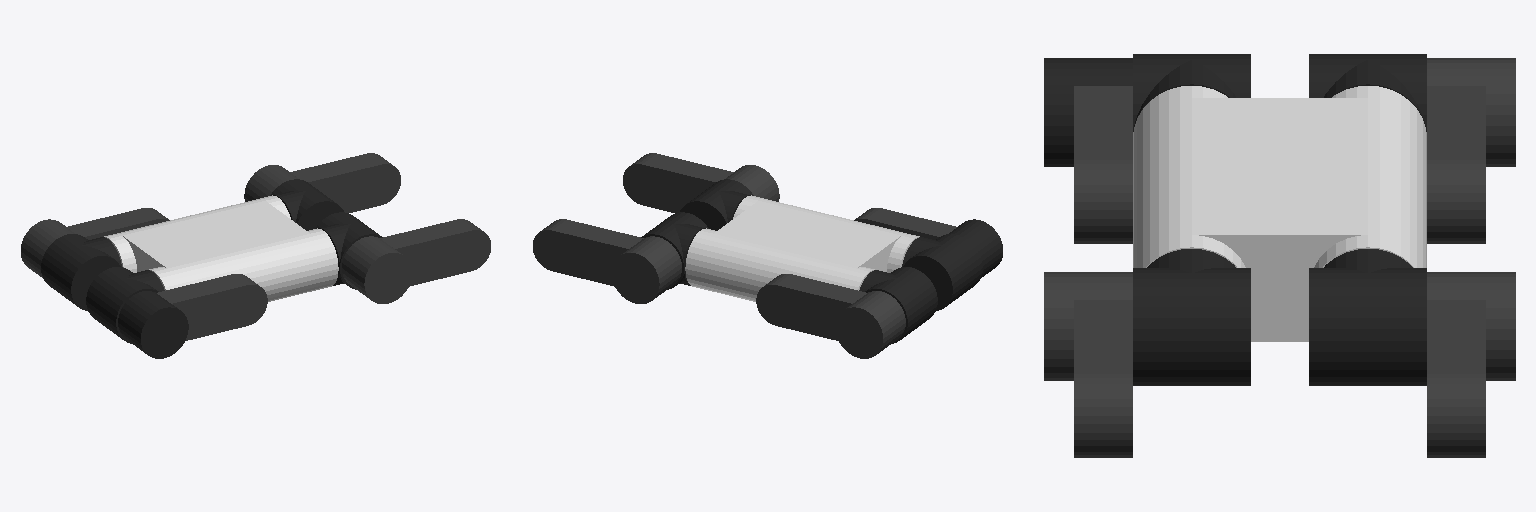
--- Render facts (derived) ---
Views: 3 orthographic renders of the robot side by side, from view 1: azimuth 30°, elevation 25°; view 2: azimuth 150°, elevation 25°; view 3: azimuth 270°, elevation 25°.
Robot: felin — 17 links, 16 joints (12 revolute, 4 fixed); root link body-base; default pose: every joint at zero.
Links seen in each view (by area): view 1: body-base, RR-femur, FR-femur, FL-femur, RL-pod, RL-femur, RR-pod, FL-pod, FR-pod; view 2: body-base, RL-femur, FL-femur, FR-femur, RR-pod, RR-femur, RL-pod, FR-pod, FL-pod; view 3: body-base, FR-pod, FL-pod, FR-femur, RR-femur, FL-femur, RL-femur, RR-pod, RL-pod.
Link boxes in pixels (x1,y1,x2,y2): body-base: (104, 195, 338, 301); RR-femur: (118, 274, 267, 358); FR-femur: (342, 219, 490, 303); FL-femur: (244, 153, 400, 212); RL-pod: (41, 234, 121, 310); RL-femur: (21, 208, 169, 277); RR-pod: (86, 267, 164, 343); FL-pod: (270, 179, 343, 230); FR-pod: (315, 212, 382, 289); body-base: (685, 195, 919, 301); RL-femur: (756, 274, 905, 358); FL-femur: (533, 219, 681, 303); FR-femur: (623, 153, 779, 212); RR-pod: (902, 234, 982, 310); RR-femur: (854, 208, 1002, 277); RL-pod: (859, 267, 937, 343); FR-pod: (680, 179, 753, 230); FL-pod: (641, 212, 708, 289); body-base: (1133, 86, 1426, 341); FR-pod: (1133, 249, 1250, 385); FL-pod: (1309, 249, 1426, 385); FR-femur: (1044, 272, 1132, 457); RR-femur: (1044, 58, 1132, 243); FL-femur: (1427, 272, 1515, 457); RL-femur: (1427, 58, 1515, 243); RR-pod: (1133, 54, 1250, 131); RL-pod: (1309, 54, 1426, 131).
Size in the robot's own frame: 0.554 by 0.32 by 0.08 metres.
Geometry: primitives only (box / cylinder / sphere), no mesh files.

The robot description file, URDF, robot "felin":
<?xml version="1.0"?>

<!-- 
    ############################################
    ######              MEMO              ######
    ############################################
    x = front
    y = left
    z = up
    
    Origin is placed at geometry center of the body 

    https://mymodelrobot.appspot.com/[number redacted]
-->

<robot name="felin">


    <material name="white">
        <color rgba="0.9 0.9 0.9 1.0"/>
    </material>
    <material name="black">
        <color rgba="0.2 0.2 0.2 1.0"/>
    </material>
    <material name="dark_grey">
        <color rgba="0.3 0.3 0.3 1.0"/>
    </material>    
    <material name="grey">
        <color rgba="0.6 0.6 0.6 1.0"/>
    </material>

    <!-- 
    ############################################
    ######              BODY              ######
    ############################################
    -->
    <!--
    ********************************************
    ******              PARTS             ******
    ********************************************
    -->
    <link name="body-base">
        <!--body-base-case-->
        <visual>
            <geometry>
                <box size="0.220 0.120 0.080"/>
            </geometry>
            <origin rpy="0 0 0" xyz="0 0 0"/>
            <material name="white"/>          
        </visual>
        <collision>
            <geometry>
                <box size="0.220 0.120 0.080"/>
            </geometry>
            <origin rpy="0 0 0" xyz="0 0 0"/>
        </collision>
        
        <!--body-base-right-cylinder-->
        <visual>
            <geometry>
                <cylinder length="0.260" radius="0.040"/> 
            </geometry>
            <origin rpy="0 1.57079 0" xyz="0.0 -0.06 0"/>
            <material name="white"/>                          
        </visual>
        <collision>
            <geometry>
                <cylinder length="0.260" radius="0.040"/> 
            </geometry>
            <origin rpy="0 1.57079 0" xyz="0.0 -0.06 0"/>
        </collision>

        <!--body-base-left-cylinder-->
        <visual>
            <geometry>
                <cylinder length="0.260" radius="0.040"/> 
            </geometry>
            <origin rpy="0 1.57079 0" xyz="0.0 0.06 0"/>
            <material name="white"/>                          
        </visual>
        <collision>
            <geometry>
                <cylinder length="0.260" radius="0.040"/> 
            </geometry>
            <origin rpy="0 1.57079 0" xyz="0.0 0.06 0"/>
        </collision>

        <inertial>
            <origin rpy="0 0 0" xyz="0.050 0 0"/>
            <mass value="3"/> <!--3-->
            <inertia ixx="0.02" ixy="0.0" ixz="0.0" iyy="0.03" iyz="0.0" izz="0.03"/>
        </inertial>
    </link>
        
    <!-- 
    ############################################
    ######              LEG Front Right   ######
    ############################################
    -->
    <!--
    ********************************************
    ******              PARTS             ******
    ********************************************
    -->
    <link name="FR-pod">
        <visual>
            <geometry>
                <cylinder length="0.080" radius="0.040"/>
            </geometry>
            <origin rpy="1.57079 0 0" xyz="0 0 0"/>
            <material name="black"/>
        </visual>
        <visual>
            <geometry>
                <cylinder length="0.040" radius="0.040"/>
            </geometry>
            <origin rpy="0.0 0 0" xyz="0.0 0 0.02"/>
            <material name="black"/>                          
        </visual>
        <collision>
            <geometry>
                <cylinder length="0.080" radius="0.040"/>
            </geometry>
            <origin rpy="1.57079 0 0" xyz="0 0 0"/>
        </collision>
        <inertial>
            <mass value="0.5"/>
            <inertia ixx="0.0003" ixy="0.0" ixz="0.0" iyy="0.0008" iyz="0.0" izz="0.0008"/>
        </inertial>        
    </link>
    
    <link name="FR-femur">
        <visual>
            <geometry>
                <cylinder radius="0.037" length="0.060"/>
            </geometry>
            <origin rpy="0.0 0.0 0.0" xyz="0.0 0.0 -0.01"/>
            <material name="dark_grey"/>          
        </visual>
        <visual>
            <geometry>
                <box size="0.140 0.060 0.040"/>
            </geometry>
            <origin rpy="0 0 0" xyz="0.07 0 0"/>
            <material name="dark_grey"/>
        </visual>
        <visual>
            <geometry>
                <cylinder radius="0.03" length="0.040"/>
            </geometry>
            <origin rpy="0.0 0.0 0.0" xyz="0.14 0.0 0.0"/>
            <material name="dark_grey"/>
        </visual>

        <collision>
            <geometry>
                <cylinder radius="0.037" length="0.060"/>
            </geometry>
            <origin rpy="0.0 0.0 0.0" xyz="0.0 0.0 -0.01"/>
        </collision>
        <collision>
            <geometry>
                <box size="0.140 0.060 0.040"/>
            </geometry>
            <origin rpy="0 0 0" xyz="0.07 0 0"/>          
        </collision>
        <collision>
            <geometry>
                <cylinder radius="0.03" length="0.040"/>
            </geometry>
            <origin rpy="0.0 0.0 0.0" xyz="0.14 0.0 0.0"/>        
        </collision>

        <inertial>
          <mass value="0.05"/>
          <inertia ixx="0.0001" ixy="0.0" ixz="0.0" iyy="0.0001" iyz="0.0" izz="0.0001"/>
        </inertial>      
    </link>
    
    <link name="FR-tibia">
        <visual>
            <geometry>
                <box size="0.150 0.020 0.025"/>
            </geometry>
            <origin rpy="0 0 0" xyz="0.075 0 0"/>
            <material name="grey"/>  
        </visual>
        <collision>
            <geometry>
                <box size="0.150 0.020 0.025"/>
            </geometry>
            <origin rpy="0 0 0" xyz="0.075 0 0"/>
        </collision>
        <inertial>
          <mass value="0.05"/>
          <inertia ixx="0.0001" ixy="0.0" ixz="0.0" iyy="0.0001" iyz="0.0" izz="0.0001"/>
        </inertial>      
    </link>

    <link name="FR-foot">
        <visual>
            <geometry>
                <sphere radius="0.022"/>
            </geometry>
            <material name="black"/>     
        </visual>
        <collision>
            <geometry>
                <sphere radius="0.022"/>
            </geometry>
        </collision>
        <contact>
            <stiffness value="10000"/>
            <damping value="1000"/>
            <lateral_friction value="1"/>
        </contact>   
        <inertial>
          <mass value="0.05"/>
          <inertia ixx="0.0001" ixy="0.0" ixz="0.0" iyy="0.0001" iyz="0.0" izz="0.0001"/>
        </inertial>           
    </link>
    
    <!--
    ********************************************
    ******             JOINTS             ******
    ********************************************
    -->
    <joint name="FR-ABD" type="revolute">
        <parent link="body-base"/>
        <child link="FR-pod"/>
        <origin rpy="0 -1.57079 0" xyz="0.172 -0.060 0"/>
        <axis xyz="0 0 1"/>
        <limit lower="-0.4" upper="0.4" effort="100" velocity="1000"/>      
    </joint>
    
    <joint name="FR-HIPS" type="revolute">
        <parent link="FR-pod"/>
        <child link="FR-femur"/>
        <!--<origin rpy="-1.57079 0 1.57079" xyz="0.0 -0.06 0.0"/> --><!-- abduction along y -->
        <origin rpy="-1.57079 1.57079 0" xyz="0.0 -0.06 0.0"/>
        <axis xyz="0 0 1"/>
        <limit lower="0.0" upper="3.4" effort="100" velocity="1000"/>
    </joint>
    
    <joint name="FR-KNEE" type="revolute">
        <parent link="FR-femur"/>
        <child link="FR-tibia"/>
        <origin rpy="0 0 -3.14159" xyz="0.140 0.0 0"/>
        <axis xyz="0 0 1"/>
        <limit lower="0.0" upper="3.1" effort="100" velocity="1000"/>
    </joint>
    
    <joint name="FR-FOOT" type="fixed">
        <parent link="FR-tibia"/>
        <child link="FR-foot"/>
        <origin rpy="0 0 0" xyz="0.150 0.0 -0.0"/>
    </joint>

    <!-- 
    ############################################
    ######              LEG Rear Right   ######
    ############################################
    -->
    <!--
    ********************************************
    ******              PARTS             ******
    ********************************************
    -->
    <link name="RR-pod">
        <visual>
            <geometry>
                <cylinder length="0.080" radius="0.040"/>
            </geometry>
            <origin rpy="1.57079 0 0" xyz="0 0 0"/>
            <material name="black"/>
        </visual>
        <visual>
            <geometry>
                <cylinder length="0.040" radius="0.040"/>
            </geometry>
            <origin rpy="0.0 0 0" xyz="0.0 0 -0.02"/>
            <material name="black"/>
        </visual>
        <collision>
            <geometry>
                <cylinder length="0.080" radius="0.040"/>
            </geometry>
            <origin rpy="1.57079 0 0" xyz="0 0 0"/>
        </collision>
        <inertial>
            <mass value="0.5"/>
            <inertia ixx="0.0003" ixy="0.0" ixz="0.0" iyy="0.0008" iyz="0.0" izz="0.0008"/>
        </inertial>           
    </link>
    

    <link name="RR-femur">
        <visual>
            <geometry>
                <cylinder radius="0.037" length="0.060"/>
            </geometry>
            <origin rpy="0.0 0.0 0.0" xyz="0.0 0.0 -0.01"/>
            <material name="dark_grey">
                <color rgba="0.2 0.2 0.2 1.0"/>
           </material>            
        </visual>
        <visual>
            <geometry>
                <box size="0.140 0.060 0.040"/>
            </geometry>
            <origin rpy="0 0 0" xyz="0.07 0 0"/>
            <material name="dark_grey"/>       
        </visual>
        <visual>
            <geometry>
                <cylinder radius="0.03" length="0.040"/>
            </geometry>
            <origin rpy="0.0 0.0 0.0" xyz="0.14 0.0 0.0"/>
            <material name="dark_grey"/>      
        </visual>

        <collision>
            <geometry>
                <cylinder radius="0.037" length="0.060"/>
            </geometry>
            <origin rpy="0.0 0.0 0.0" xyz="0.0 0.0 -0.01"/>
        </collision>
        <collision>
            <geometry>
                <box size="0.140 0.060 0.040"/>
            </geometry>
            <origin rpy="0 0 0" xyz="0.07 0 0"/>          
        </collision>
        <collision>
            <geometry>
                <cylinder radius="0.03" length="0.040"/>
            </geometry>
            <origin rpy="0.0 0.0 0.0" xyz="0.14 0.0 0.0"/>        
        </collision>

        <inertial>
          <mass value="0.05"/>
          <inertia ixx="0.0001" ixy="0.0" ixz="0.0" iyy="0.0001" iyz="0.0" izz="0.0001"/>
        </inertial>      
    </link>
    

    <link name="RR-tibia">
        <visual>
            <geometry>
                <box size="0.150 0.020 0.025"/>
            </geometry>
            <origin rpy="0 0 0" xyz="0.075 0 0"/>
            <material name="grey"/>     
        </visual>
        <collision>
            <geometry>
                <box size="0.150 0.020 0.025"/>
            </geometry>
            <origin rpy="0 0 0" xyz="0.075 0 0"/>
        </collision>
        <inertial>
          <mass value="0.05"/>
          <inertia ixx="0.0001" ixy="0.0" ixz="0.0" iyy="0.0001" iyz="0.0" izz="0.0001"/>
        </inertial>      
    </link>

    <link name="RR-foot">
        <visual>
            <geometry>
                <sphere radius="0.022"/>
            </geometry>
            <material name="black"/>          
        </visual>
        <collision>
            <geometry>
                <sphere radius="0.022"/>
            </geometry>
        </collision>
        <contact>
            <stiffness value="10000"/>
            <damping value="1000"/>
            <lateral_friction value="1"/>
        </contact>   
        <inertial>
          <mass value="0.05"/>
          <inertia ixx="0.0001" ixy="0.0" ixz="0.0" iyy="0.0001" iyz="0.0" izz="0.0001"/>
        </inertial>           
    </link>    
    
    <!--
    ********************************************
    ******             JOINTS             ******
    ********************************************
    -->
    <joint name="RR-ABD" type="revolute">
        <parent link="body-base"/>
        <child link="RR-pod"/>
        <origin rpy="0 -1.57079 0" xyz="-0.172 -0.060 0"/>
        <axis xyz="0 0 1"/>
        <limit lower="-0.4" upper="0.4" effort="100" velocity="1000"/> 
    </joint>
    
    <joint name="RR-HIPS" type="revolute">
        <parent link="RR-pod"/>
        <child link="RR-femur"/>
        <!--<origin rpy="-1.57079 0 1.57079" xyz="0.0 -0.06 0.0"/> --><!-- abduction along y -->
        <origin rpy="-1.57079 1.57079 0" xyz="0.0 -0.06 0.0"/>
        <axis xyz="0 0 1"/>
        <limit lower="0.0" upper="3.4" effort="100" velocity="1000"/>
    </joint>
    
    <joint name="RR-KNEE" type="revolute">
        <parent link="RR-femur"/>
        <child link="RR-tibia"/>
        <origin rpy="0 0 -3.14159" xyz="0.140 0.0 0"/>
        <axis xyz="0 0 1"/>
        <limit lower="0.0" upper="3.1" effort="100" velocity="1000"/>
    </joint>
    
    <joint name="RR-FOOT" type="fixed">
        <parent link="RR-tibia"/>
        <child link="RR-foot"/>
        <origin rpy="0 0 0" xyz="0.150 0.0 -0.0"/>
    </joint>


    <!-- 
    ############################################
    ######              LEG Front Left   ######
    ############################################
    -->
    <!--
    ********************************************
    ******              PARTS             ******
    ********************************************
    -->
    <link name="FL-pod">
        <visual>
            <geometry>
                <cylinder length="0.080" radius="0.040"/>
            </geometry>
            <origin rpy="1.57079 0 0" xyz="0 0 0"/>
            <material name="black"/>
        </visual>
        <visual>
            <geometry>
                <cylinder length="0.040" radius="0.040"/>
            </geometry>
            <origin rpy="0.0 0 0" xyz="0 0 0.02"/>
            <material name="black"/>
        </visual>
        <collision>
            <geometry>
                <cylinder length="0.080" radius="0.040"/>
            </geometry>
            <origin rpy="1.57079 0 0" xyz="0 0 0"/>
        </collision>
        <inertial>
            <mass value="0.5"/>
            <inertia ixx="0.0003" ixy="0.0" ixz="0.0" iyy="0.0008" iyz="0.0" izz="0.0008"/>
        </inertial>        
    </link>
    
    <link name="FL-femur">
        <visual>
            <geometry>
                <cylinder radius="0.037" length="0.060"/>
            </geometry>
            <origin rpy="0.0 0.0 0.0" xyz="0.0 0.0 0.01"/>
            <material name="dark_grey"/>      
        </visual>
        <visual>
            <geometry>
                <box size="0.140 0.060 0.040"/>
            </geometry>
            <origin rpy="0 0 0" xyz="0.07 0 0"/>
            <material name="dark_grey"/>          
        </visual>
        <visual>
            <geometry>
                <cylinder radius="0.03" length="0.040"/>
            </geometry>
            <origin rpy="0.0 0.0 0.0" xyz="0.14 0.0 0.0"/>
            <material name="dark_grey"/>      
        </visual>

        <collision>
            <geometry>
                <cylinder radius="0.037" length="0.060"/>
            </geometry>
            <origin rpy="0.0 0.0 0.0" xyz="0.0 0.0 0.01"/>
        </collision>
        <collision>
            <geometry>
                <box size="0.140 0.060 0.040"/>
            </geometry>
            <origin rpy="0 0 0" xyz="0.07 0 0"/>          
        </collision>
        <collision>
            <geometry>
                <cylinder radius="0.03" length="0.040"/>
            </geometry>
            <origin rpy="0.0 0.0 0.0" xyz="0.14 0.0 0.0"/>        
        </collision>

        <inertial>
          <mass value="0.05"/>
          <inertia ixx="0.0001" ixy="0.0" ixz="0.0" iyy="0.0001" iyz="0.0" izz="0.0001"/>
        </inertial>      
    </link>
    
    <link name="FL-tibia">
        <visual>
            <geometry>
                <box size="0.150 0.020 0.025"/>
            </geometry>
            <origin rpy="0 0 0" xyz="0.075 0 0"/>
            <material name="grey"/>           
        </visual>
        <collision>
            <geometry>
                <box size="0.150 0.020 0.025"/>
            </geometry>
            <origin rpy="0 0 0" xyz="0.075 0 0"/>
        </collision>
        <inertial>
          <mass value="0.05"/>
          <inertia ixx="0.0001" ixy="0.0" ixz="0.0" iyy="0.0001" iyz="0.0" izz="0.0001"/>
        </inertial>      
    </link>

    <link name="FL-foot">
        <visual>
            <geometry>
                <sphere radius="0.022"/>
            </geometry>
            <material name="black"/>   
        </visual>
        <collision>
            <geometry>
                <sphere radius="0.022"/>
            </geometry>
        </collision>
        <contact>
            <stiffness value="10000"/>
            <damping value="1000"/>
            <lateral_friction value="1"/>
        </contact>   
        <inertial>
          <mass value="0.05"/>
          <inertia ixx="0.0001" ixy="0.0" ixz="0.0" iyy="0.0001" iyz="0.0" izz="0.0001"/>
        </inertial>           
    </link>
    
    <!--
    ********************************************
    ******             JOINTS             ******
    ********************************************
    -->
    <joint name="FL-ABD" type="revolute">
        <parent link="body-base"/>
        <child link="FL-pod"/>
        <origin rpy="0 -1.57079 0" xyz="0.172 0.060 0"/>
        <axis xyz="0 0 1"/>
        <limit lower="-0.4" upper="0.4" effort="100" velocity="1000"/>      
    </joint>
    
    <joint name="FL-HIPS" type="revolute">
        <parent link="FL-pod"/>
        <child link="FL-femur"/>
        <!--<origin rpy="-1.57079 0 1.57079" xyz="0.0 -0.06 0.0"/> --><!-- abduction along y -->
        <origin rpy="-1.57079 1.57079 0" xyz="0.0 0.06 0.0"/>        
        <axis xyz="0 0 1"/>
        <limit lower="0.0" upper="3.4" effort="100" velocity="1000"/>
    </joint>
    
    <joint name="FL-KNEE" type="revolute">
        <parent link="FL-femur"/>
        <child link="FL-tibia"/>
        <origin rpy="0 0 -3.14159" xyz="0.140 0.0 0"/>
        <axis xyz="0 0 1"/>
        <limit lower="0.0" upper="3.1" effort="100" velocity="1000"/>
    </joint>
    
    <joint name="FL-FOOT" type="fixed">
        <parent link="FL-tibia"/>
        <child link="FL-foot"/>
        <origin rpy="0 0 0" xyz="0.150 0.0 -0.0"/>
    </joint>


    <!-- 
    ############################################
    ######              Leg Rear Left    ######
    ############################################
    -->
    <!--
    ********************************************
    ******              PARTS             ******
    ********************************************
    -->
    <link name="RL-pod">
        <visual>
            <geometry>
                <cylinder length="0.080" radius="0.040"/>
            </geometry>
            <origin rpy="1.57079 0 0" xyz="0 0 0"/>
            <material name="black"/>
        </visual>
        <visual>
            <geometry>
                <cylinder length="0.040" radius="0.040"/>
            </geometry>
            <origin rpy="0.0 0 0" xyz="0.0 0 -0.02"/>
            <material name="black"/>
        </visual>
        <collision>
            <geometry>
                <cylinder length="0.080" radius="0.040"/>
            </geometry>
            <origin rpy="1.57079 0 0" xyz="0 0 0"/>
        </collision>
        <inertial>
            <mass value="0.5"/>
            <inertia ixx="0.0003" ixy="0.0" ixz="0.0" iyy="0.0008" iyz="0.0" izz="0.0008"/>
        </inertial>        
    </link>
    
    <link name="RL-femur">
        <visual>
            <geometry>
                <cylinder radius="0.037" length="0.060"/>
            </geometry>
            <origin rpy="0.0 0.0 0.0" xyz="0.0 0.0 0.01"/>
           <material name="dark_grey"/>     
        </visual>
        <visual>
            <geometry>
                <box size="0.140 0.060 0.040"/>
            </geometry>
            <origin rpy="0 0 0" xyz="0.07 0 0"/>
            <material name="dark_grey"/>          
        </visual>
        <visual>
            <geometry>
                <cylinder radius="0.03" length="0.040"/>
            </geometry>
            <origin rpy="0.0 0.0 0.0" xyz="0.14 0.0 0.0"/>
            <material name="dark_grey"/>       
        </visual>

        <collision>
            <geometry>
                <cylinder radius="0.037" length="0.060"/>
            </geometry>
            <origin rpy="0.0 0.0 0.0" xyz="0.0 0.0 0.01"/>
        </collision>
        <collision>
            <geometry>
                <box size="0.140 0.060 0.040"/>
            </geometry>
            <origin rpy="0 0 0" xyz="0.07 0 0"/>          
        </collision>
        <collision>
            <geometry>
                <cylinder radius="0.03" length="0.040"/>
            </geometry>
            <origin rpy="0.0 0.0 0.0" xyz="0.14 0.0 0.0"/>        
        </collision>

        <inertial>
          <mass value="0.05"/>
          <inertia ixx="0.0001" ixy="0.0" ixz="0.0" iyy="0.0001" iyz="0.0" izz="0.0001"/>
        </inertial>      
    </link>
    
    <link name="RL-tibia">
        <visual>
            <geometry>
                <box size="0.150 0.020 0.025"/>
            </geometry>
            <origin rpy="0 0 0" xyz="0.075 0 0"/>
            <material name="grey"/>         
        </visual>
        <collision>
            <geometry>
                <box size="0.150 0.020 0.025"/>
            </geometry>
            <origin rpy="0 0 0" xyz="0.075 0 0"/>
        </collision>
        <inertial>
          <mass value="0.05"/>
          <inertia ixx="0.0001" ixy="0.0" ixz="0.0" iyy="0.0001" iyz="0.0" izz="0.0001"/>
        </inertial>      
    </link>

    <link name="RL-foot">
        <visual>
            <geometry>
                <sphere radius="0.022"/>
            </geometry>
            <material name="black"/>   
        </visual>
        <collision>
            <geometry>
                <sphere radius="0.022"/>
            </geometry>
        </collision>
        <contact>
            <stiffness value="10000"/>
            <damping value="1000"/>
            <lateral_friction value="1"/>
        </contact>   
        <inertial>
          <mass value="0.05"/>
          <inertia ixx="0.0001" ixy="0.0" ixz="0.0" iyy="0.0001" iyz="0.0" izz="0.0001"/>
        </inertial>           
    </link>
    
    <!--
    ********************************************
    ******             JOINTS             ******
    ********************************************
    -->
    <joint name="RL-ABD" type="revolute">
        <parent link="body-base"/>
        <child link="RL-pod"/>
        <origin rpy="0 -1.57079 0" xyz="-0.172 0.060 0"/>
        <axis xyz="0 0 1"/>
        <limit lower="-0.4" upper="0.4" effort="100" velocity="1000"/>      
    </joint>
    
    <joint name="RL-HIPS" type="revolute">
        <parent link="RL-pod"/>
        <child link="RL-femur"/>
        <!--<origin rpy="-1.57079 0 1.57079" xyz="0.0 -0.06 0.0"/> --><!-- abduction along y -->
        <origin rpy="-1.57079 1.57079 0" xyz="0.0 0.06 0.0"/>       
        <axis xyz="0 0 1"/>
        <limit lower="0.0" upper="3.4" effort="100" velocity="1000"/>
    </joint>
    
    <joint name="RL-KNEE" type="revolute">
        <parent link="RL-femur"/>
        <child link="RL-tibia"/>
        <origin rpy="0 0 -3.14159" xyz="0.140 0.0 0"/>
        <axis xyz="0 0 1"/>
        <limit lower="0.0" upper="3.1" effort="100" velocity="1000"/>
    </joint>
    
    <joint name="RL-FOOT" type="fixed">
        <parent link="RL-tibia"/>
        <child link="RL-foot"/>
        <origin rpy="0 0 0" xyz="0.150 0.0 -0.0"/>
    </joint>




</robot>    
